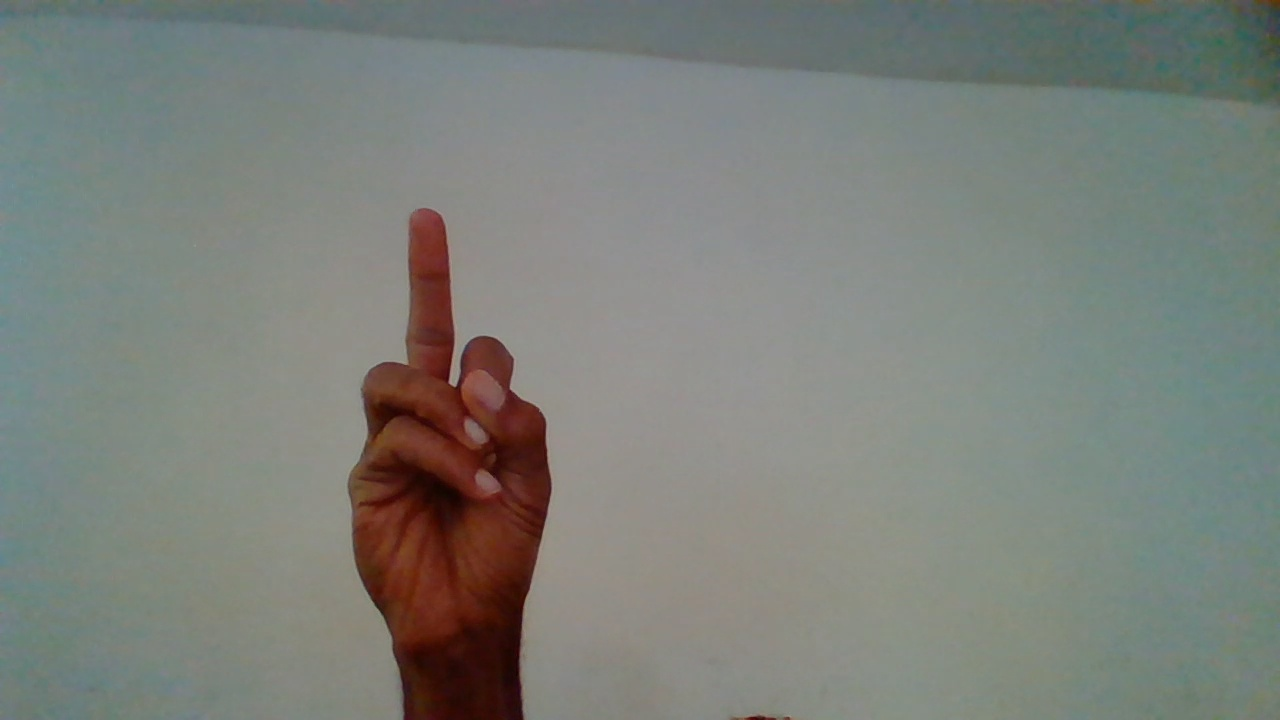he: (340, 213, 579, 706)
